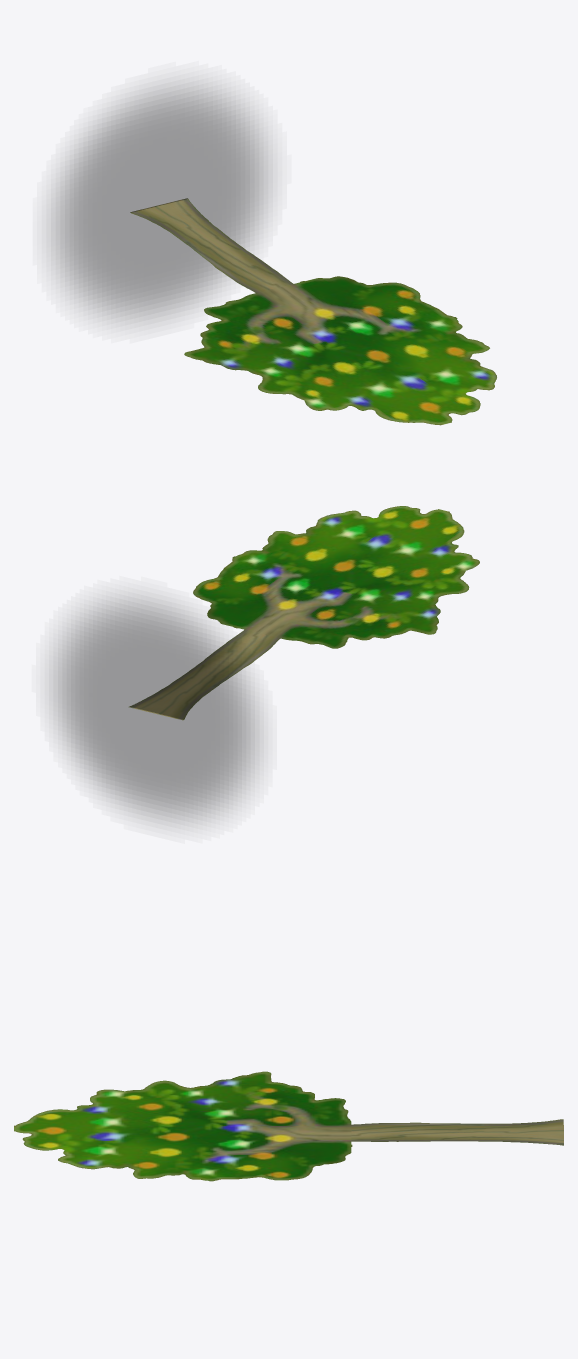
File: prop_tree_large_ur.glb
3 views of the same model, one above another, from view 1: azimuth 30°, elevation 25°; view 2: azimuth 150°, elevation 25°; view 3: azimuth 270°, elevation 25° (orthographic). The views are drawn at different scales.
Visible parts, largest first — view 1: shadow_large_no_box_ur, p269_7__billboard; view 2: shadow_large_no_box_ur, p269_7__billboard; view 3: p269_7__billboard.
Part boxes in pixels (x1,y1,x2,y2): shadow_large_no_box_ur: [51, 83, 268, 322]; p269_7__billboard: [130, 198, 496, 425]; shadow_large_no_box_ur: [53, 597, 259, 823]; p269_7__billboard: [128, 506, 479, 720]; p269_7__billboard: [14, 1071, 563, 1181].
Bounding box in the file's own units: 16.89 × 16.89 × 29.25.
3 materials, 3 textured.
